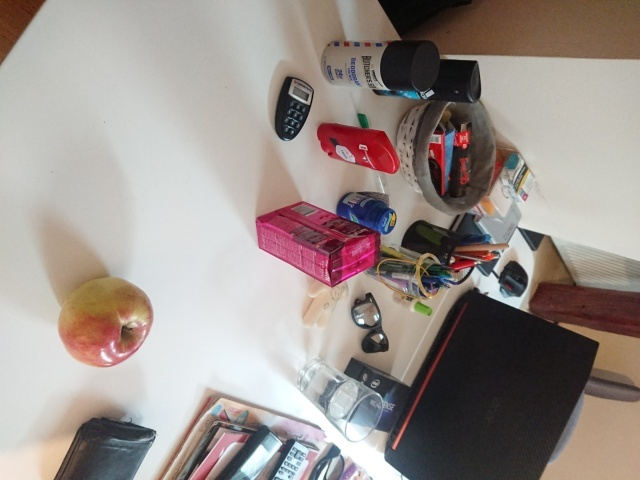Barcaffe Classic Original 225g: (253, 198, 384, 289)
